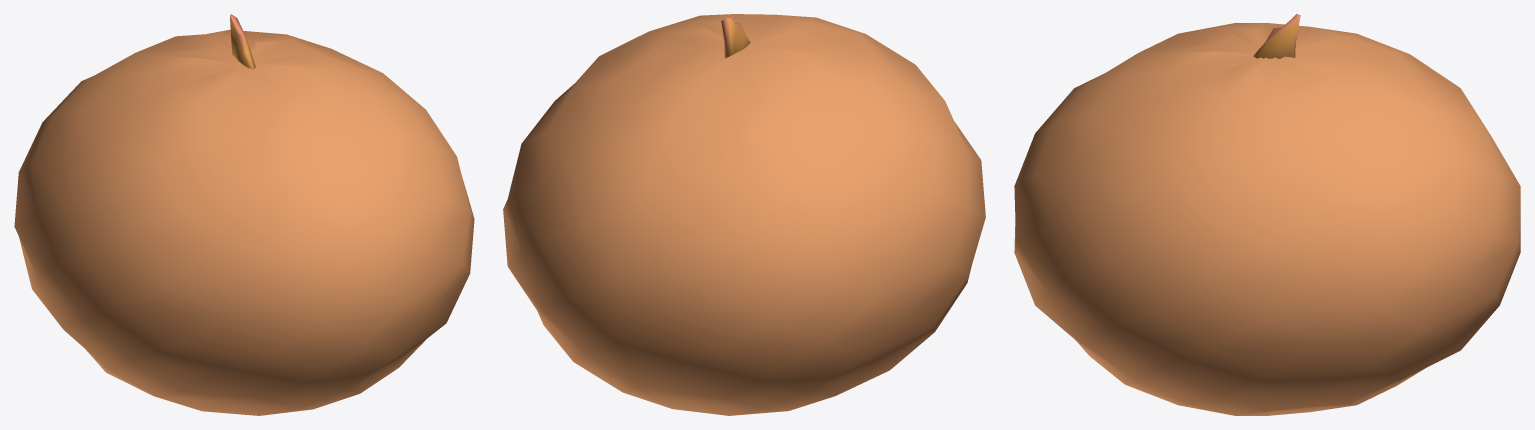
Rendered from Onion.glb.
3 renders of one model, left to right at view 1: azimuth 30°, elevation 25°; view 2: azimuth 150°, elevation 25°; view 3: azimuth 270°, elevation 25°, orthographic. The views are drawn at different scales.
Parts seen in each view (by area): view 1: Onion.001; view 2: Onion.001; view 3: Onion.001.
Boxes of the visible parts, left/top/right/bottom form: Onion.001: left=14, top=14, right=474, bottom=415; Onion.001: left=503, top=14, right=985, bottom=415; Onion.001: left=1014, top=14, right=1520, bottom=415.
Size of the model in its own units: 0.344 by 0.3 by 0.3685.
